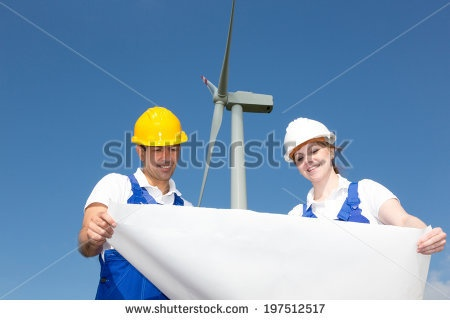white: (282, 117, 340, 185)
yellow: (131, 104, 186, 181)
